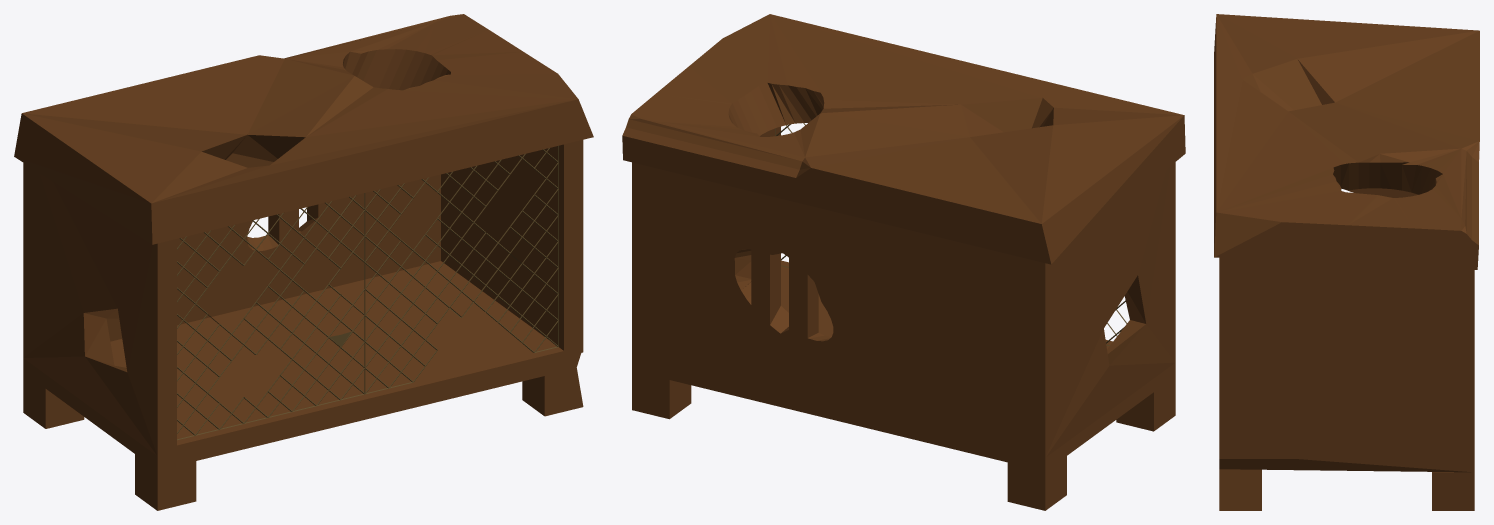
The model's file is Hühnerstall (kaputt).fbx.
The picture shows the model from 3 angles, left to right: view 1: azimuth 30°, elevation 25°; view 2: azimuth 150°, elevation 25°; view 3: azimuth 270°, elevation 25°; orthographic projection. The views are drawn at different scales.
Parts seen in each view (by area): view 1: Stall; view 2: Stall; view 3: Stall.
Boxes of the visible parts, bbox=[...] form: Stall: bbox=[14, 14, 593, 510]; Stall: bbox=[622, 14, 1185, 510]; Stall: bbox=[1214, 14, 1479, 510].
Bounding box in the file's own units: 456 × 306 × 250.
